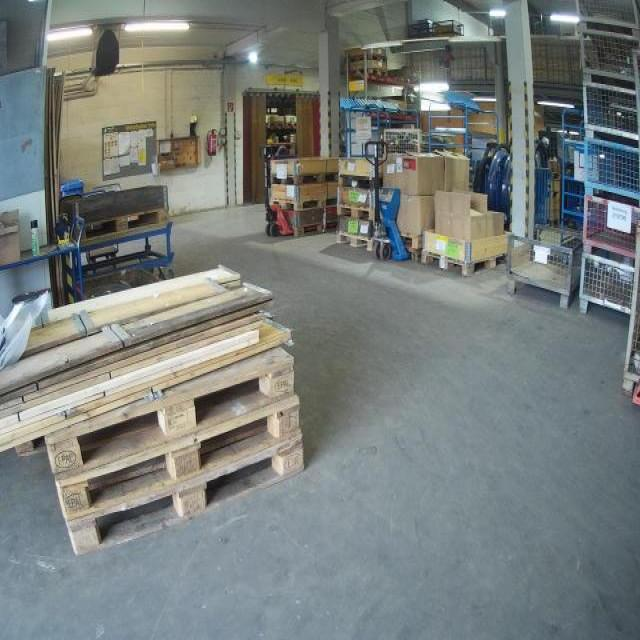pallet: (42, 345, 296, 479), (54, 392, 302, 524), (66, 436, 309, 561), (74, 200, 170, 249), (420, 247, 509, 279), (270, 196, 338, 214), (269, 170, 340, 187), (335, 199, 376, 225), (337, 172, 384, 193), (335, 230, 377, 253), (292, 221, 338, 239), (345, 53, 387, 66), (348, 67, 386, 78)
pallet_truck: (358, 135, 415, 266), (255, 141, 307, 242)
stillage: (509, 226, 577, 306), (577, 251, 636, 327), (615, 223, 640, 402), (573, 194, 640, 260), (574, 27, 640, 87), (578, 137, 638, 199), (577, 81, 640, 135), (576, 2, 639, 41), (378, 126, 430, 155)
